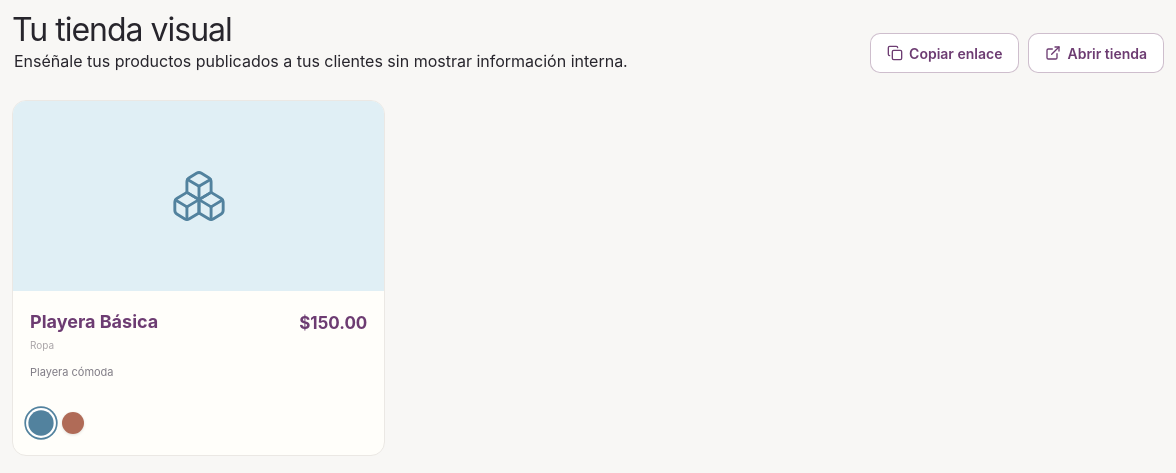
Scenario: CatalogPage › Productos › debería cambiar precio al seleccionar una variante diferente
Check: the text "$150.00" is shown, box [299,311,367,337]
Step 1. Click the button titled "Blanco" → (73, 423), box [62,412,84,434]
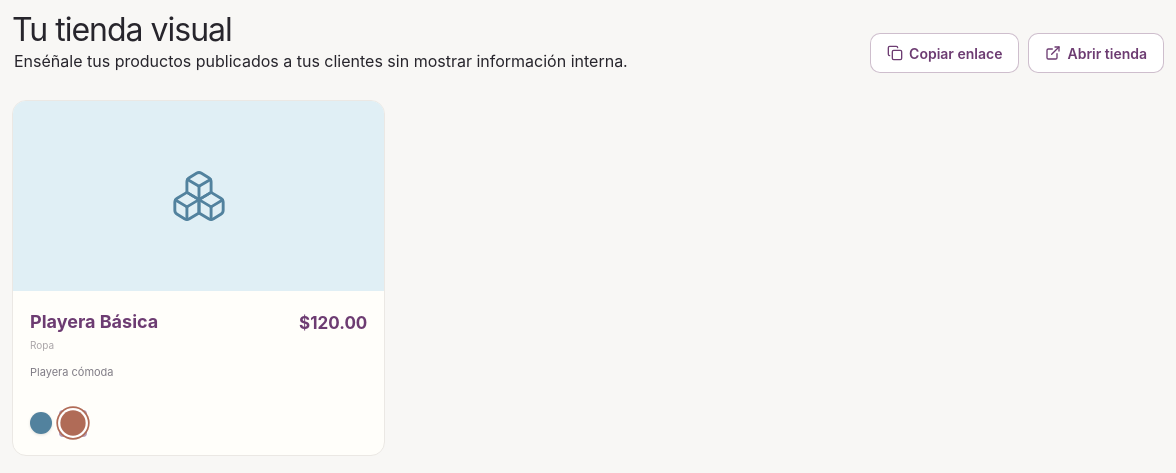
Check: the text "$120.00" is shown, box [299,311,367,337]
